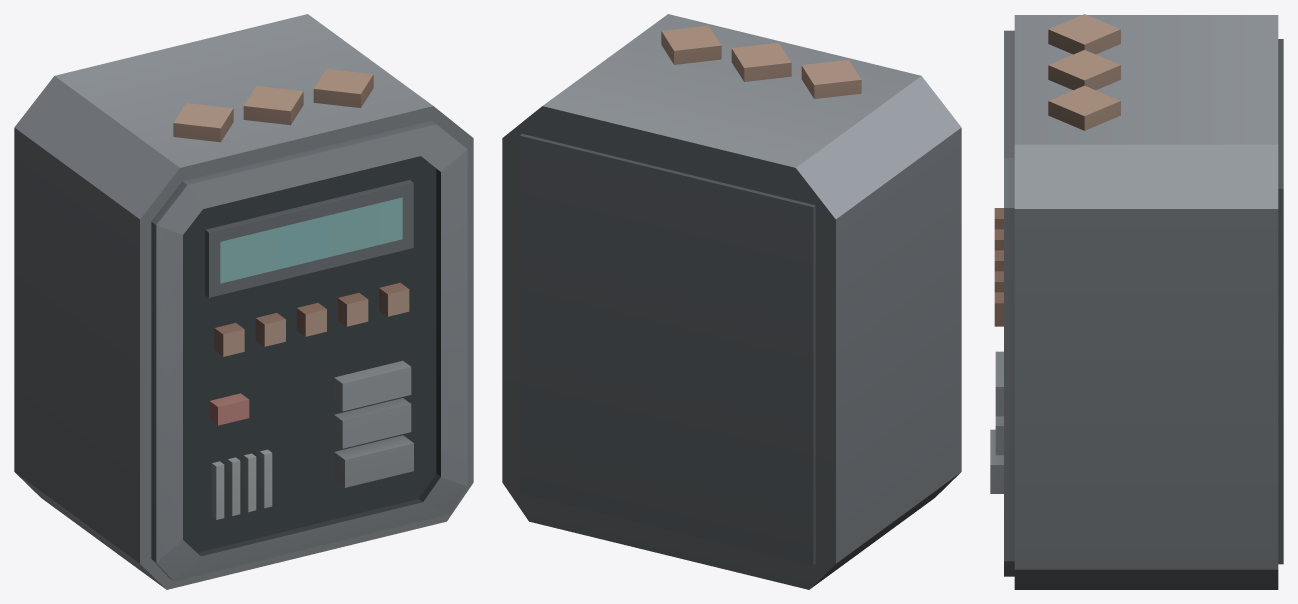
File: battery.lod1.glb
3 views of the same model, side by side, from view 1: azimuth 30°, elevation 25°; view 2: azimuth 150°, elevation 25°; view 3: azimuth 270°, elevation 25° (orthographic). The views are drawn at different scales.
Size of the model in its own units: 1.5 by 1.86 by 1.09.
